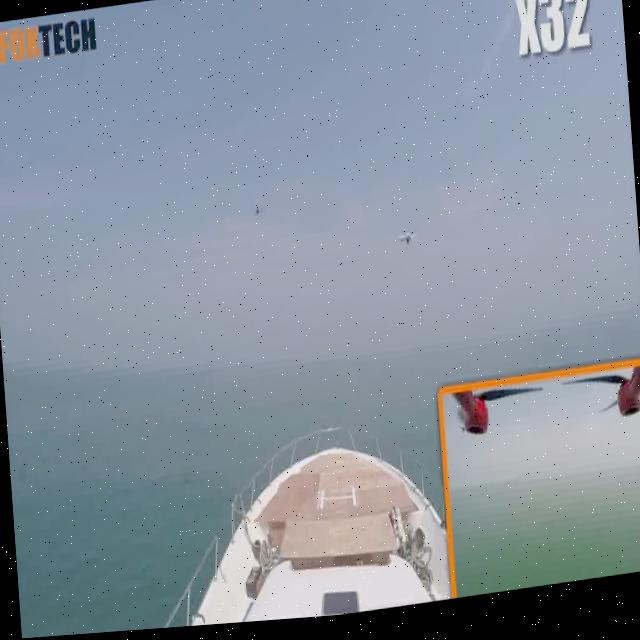drone: (392, 207, 420, 263), (247, 197, 268, 238)
